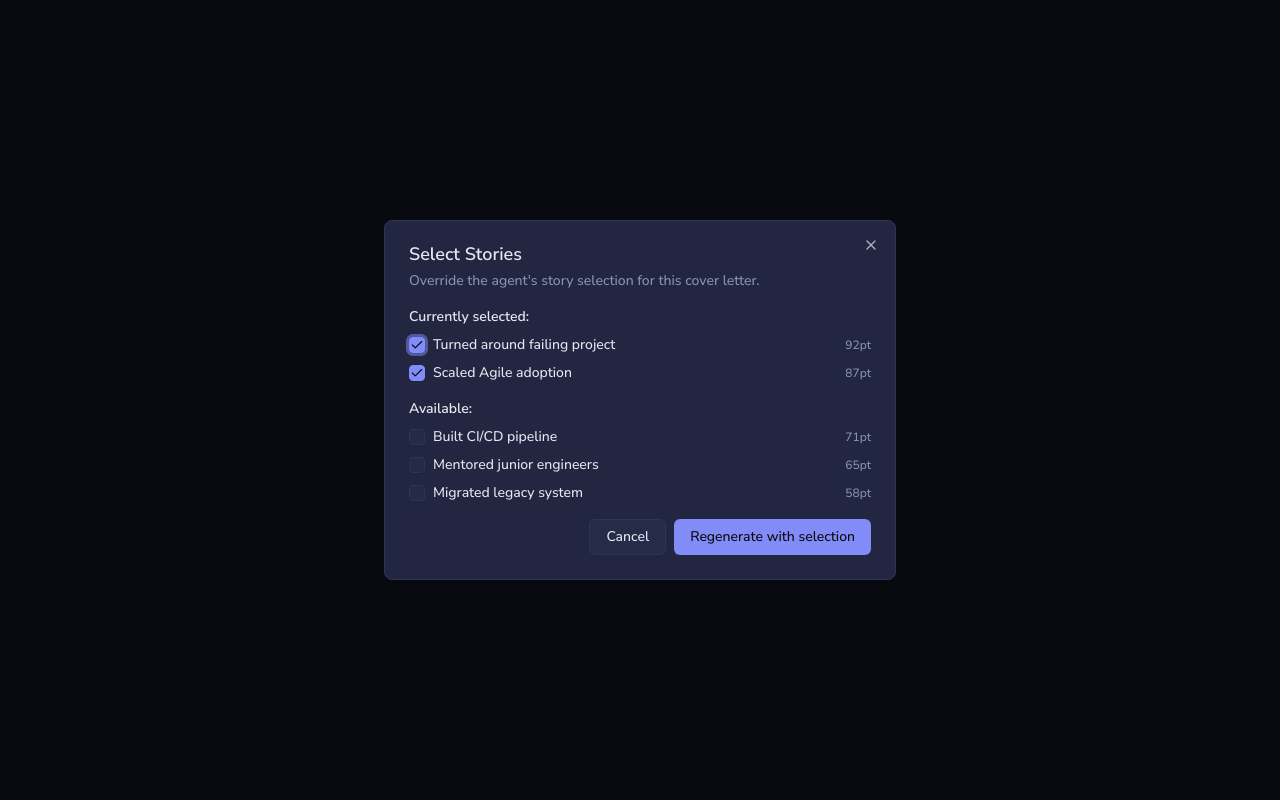
Scenario: StoryOverrideModal › submit › shows loading state during submission
Click the button "Regenerate with selection". click: [773, 537]
box: [674,519,871,555]
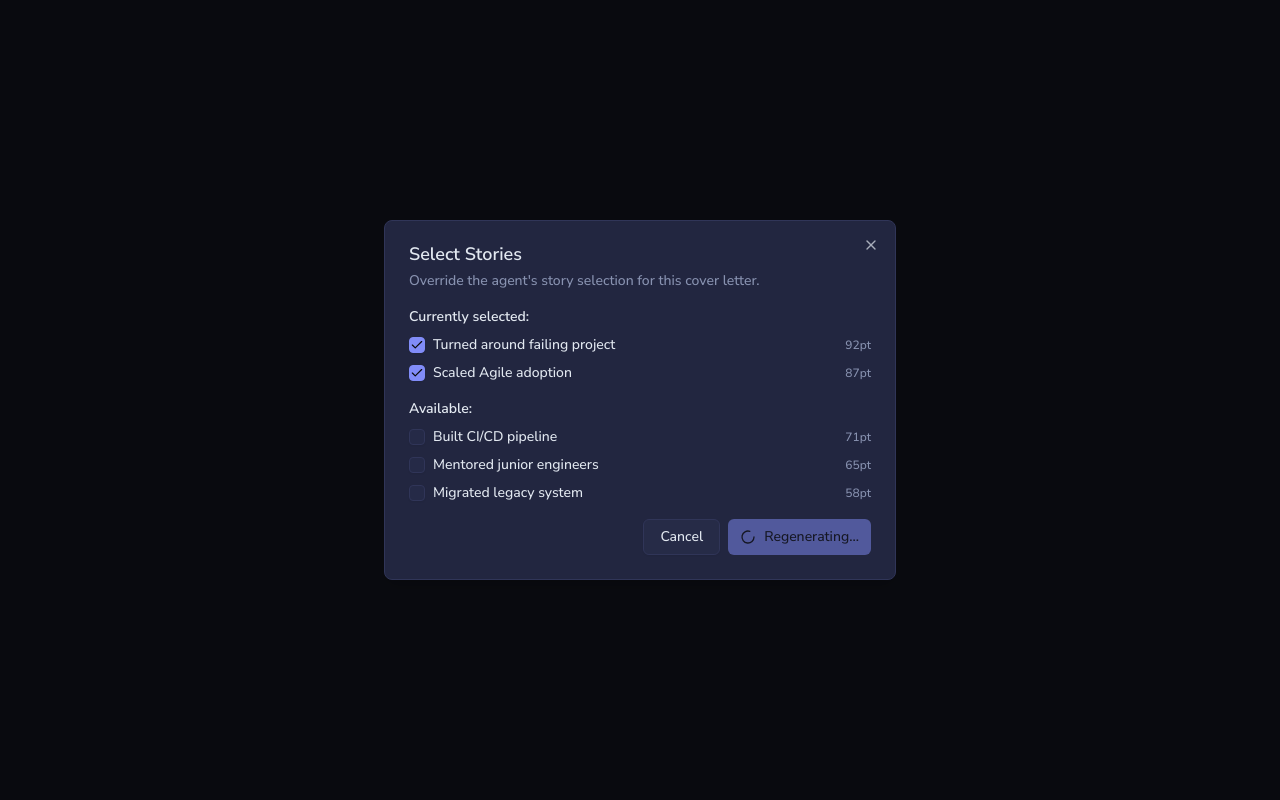
Check: the icon with test id "regenerate-spinner" is shown, box [740,529,756,545]
Check: the button "Regenerating..." is disabled, box [728,519,871,555]
